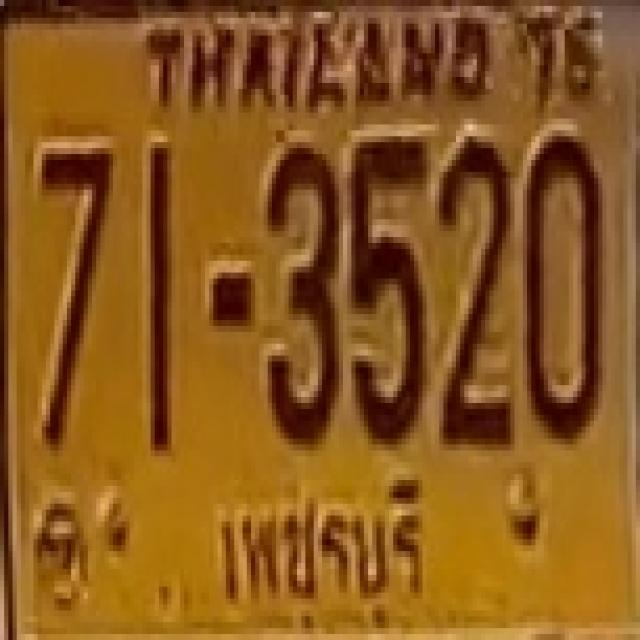PBI: (188, 454, 450, 627)
